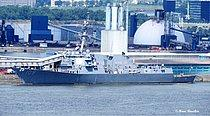MIL_Ship: (10, 47, 195, 83)
